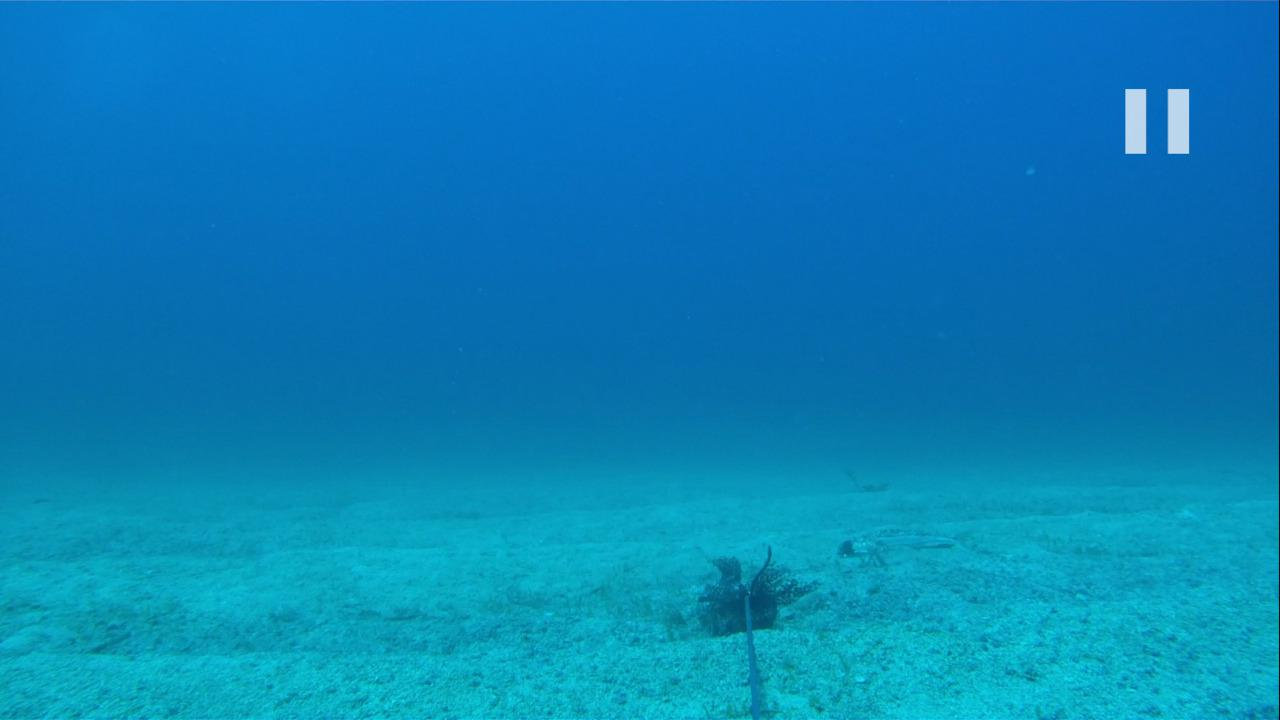dactylopterus: (833, 523, 996, 567)
